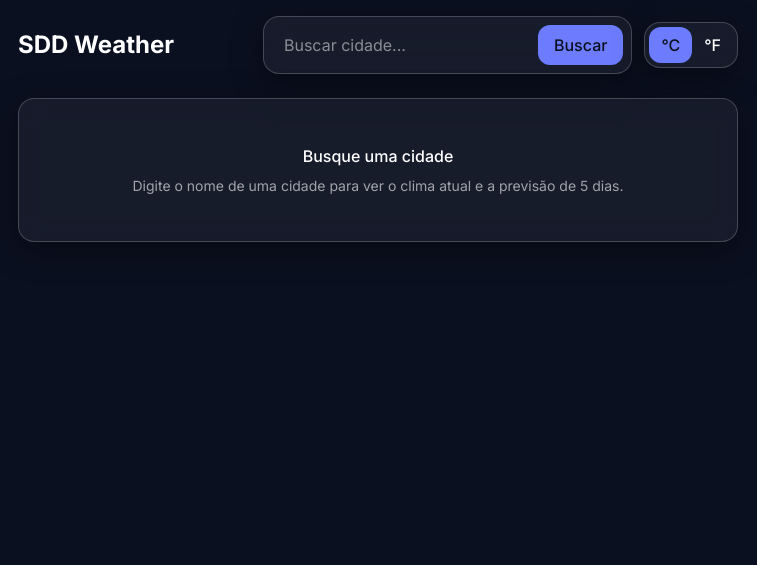
App › indica campos indisponíveis e previsão parcial
Type "Rio de Janeiro" into the field labelled "Buscar cidade". click: (401, 45)
box: [272, 25, 530, 65]
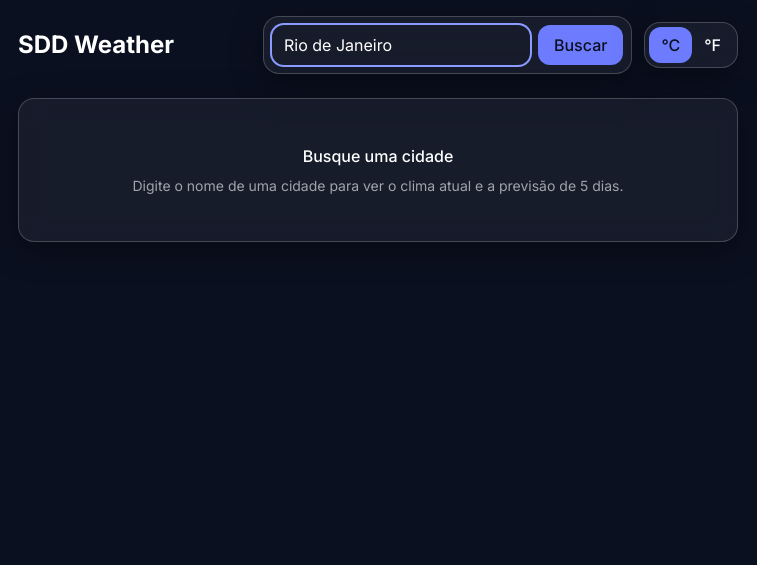
Click the button "Buscar". click: (581, 45)
box: [538, 25, 623, 65]
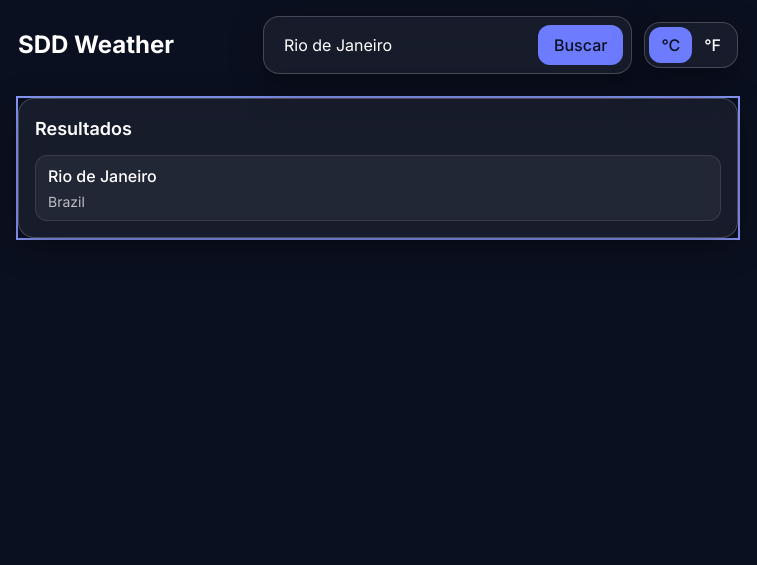
Click the button "Rio de Janeiro Brazil". click: (102, 176)
box: [35, 155, 721, 221]
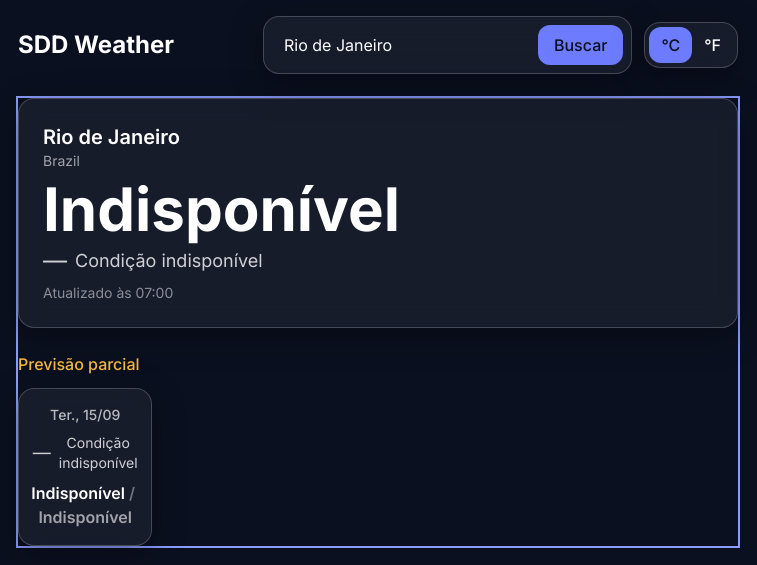
Expected: the message reads "Previsão parcial", [18, 354, 140, 374]
